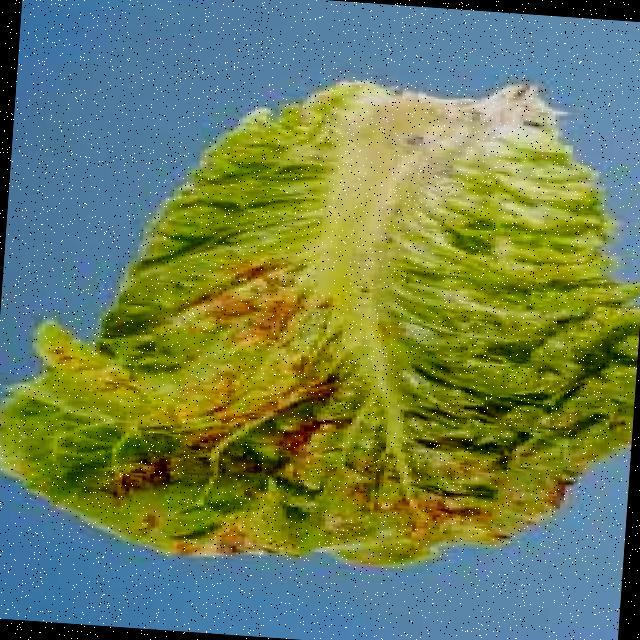Lettuce Mosaic Virus: (149, 98, 624, 560)
